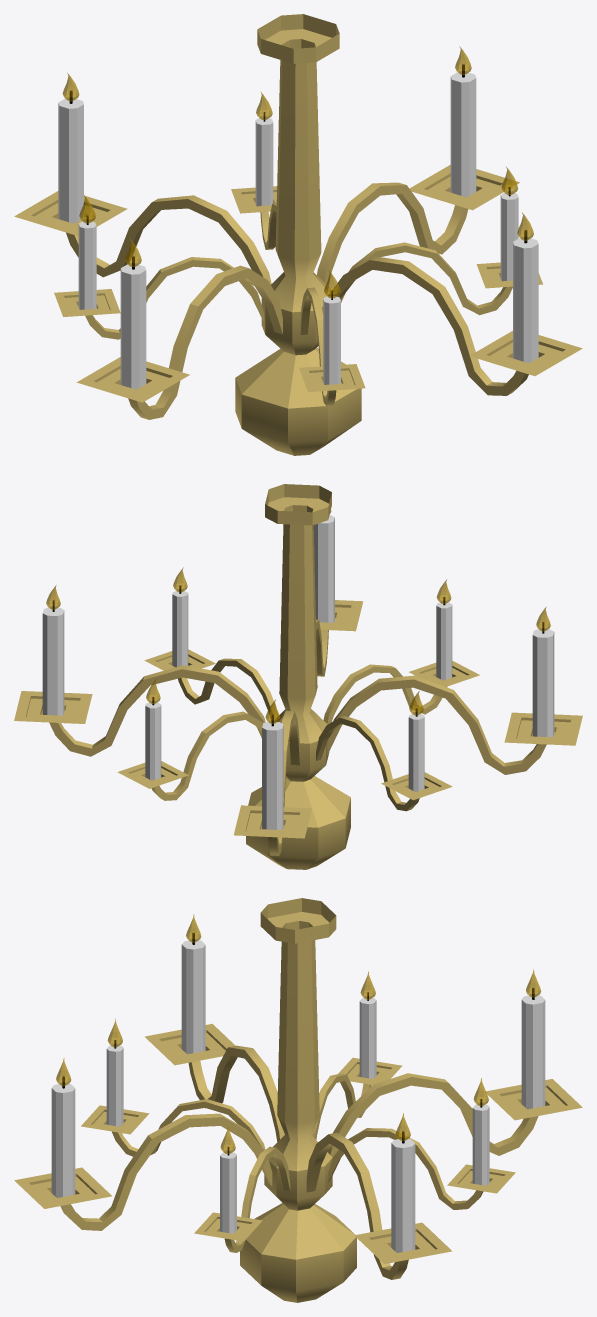
The model's file is Gammal_Ljuskrona.fbx.
3 renders of one model, top to bottom at view 1: azimuth 30°, elevation 25°; view 2: azimuth 150°, elevation 25°; view 3: azimuth 270°, elevation 25°, orthographic. The views are drawn at different scales.
Visible parts, largest first — view 1: pCube16, pCube22, pCube17, pCube20, pCube24, pCube18, pCube19, pCube21, pCube23, pCube32, pCube28, pCube26 (+5 smaller); view 2: pCube16, pCube17, pCube20, pCube24, pCube19, pCube18, pCube32, pCube23, pCube29, pCube26, pCube21, pCube28 (+5 smaller); view 3: pCube16, pCube22, pCube24, pCube20, pCube17, pCube19, pCube21, pCube18, pCube23, pCube29, pCube26, pCube28 (+5 smaller).
Part boxes in pixels (<box>): pCube16: <box>235,14,361,455</box>; pCube22: <box>328,256,582,395</box>; pCube17: <box>76,265,282,419</box>; pCube20: <box>317,165,519,285</box>; pCube24: <box>14,191,271,284</box>; pCube18: <box>120,256,146,389</box>; pCube19: <box>450,64,476,197</box>; pCube21: <box>513,230,538,363</box>; pCube23: <box>58,90,83,223</box>; pCube32: <box>54,257,263,339</box>; pCube28: <box>341,242,542,315</box>; pCube26: <box>299,287,365,405</box>; pCube16: <box>246,484,350,869</box>; pCube17: <box>327,675,582,774</box>; pCube20: <box>14,665,265,756</box>; pCube24: <box>234,710,311,855</box>; pCube19: <box>42,600,64,715</box>; pCube18: <box>532,622,554,737</box>; pCube32: <box>316,715,452,811</box>; pCube23: <box>262,714,283,829</box>; pCube29: <box>117,711,263,800</box>; pCube26: <box>323,660,479,724</box>; pCube21: <box>313,515,334,622</box>; pCube28: <box>144,649,278,720</box>; pCube16: <box>240,898,356,1302</box>; pCube22: <box>14,1113,272,1230</box>; pCube24: <box>327,1073,582,1157</box>; pCube20: <box>306,1132,451,1279</box>; pCube17: <box>145,1023,284,1141</box>; pCube19: <box>391,1131,415,1252</box>; pCube21: <box>51,1076,75,1197</box>; pCube18: <box>181,933,205,1054</box>; pCube23: <box>521,988,545,1109</box>; pCube29: <box>327,1128,515,1209</box>; pCube26: <box>81,1099,265,1156</box>; pCube28: <box>194,1146,290,1252</box>.
Size of the model in its own units: 5.2 by 3.82 by 5.2.
